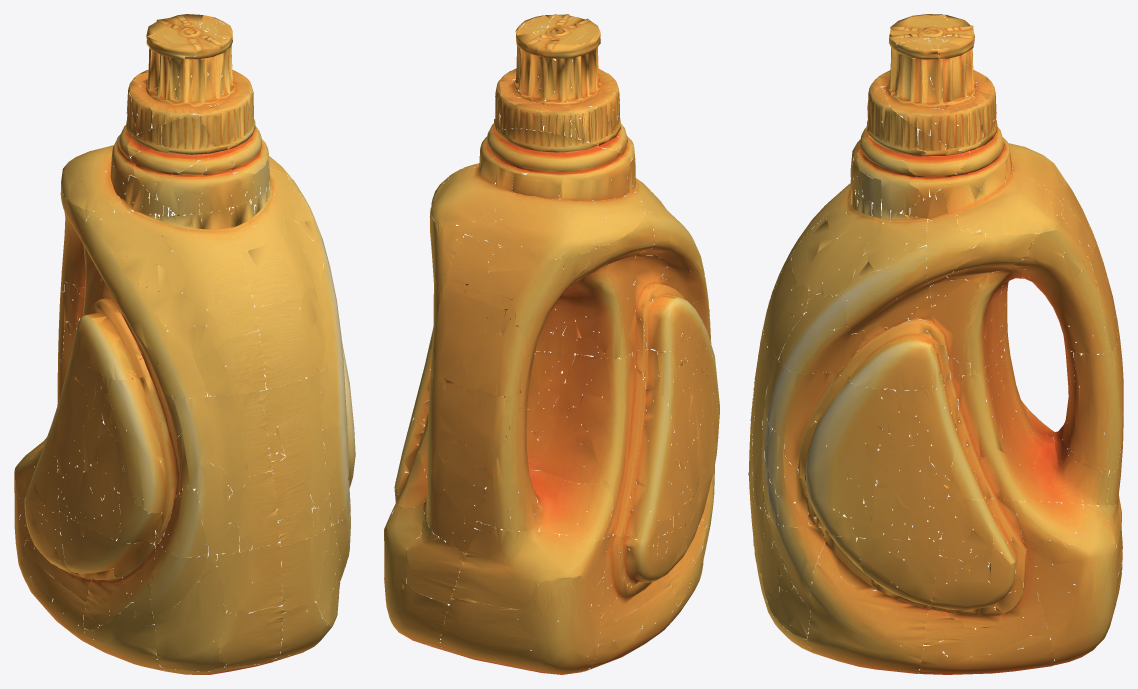
The model's file is detergent.glb.
3 renders of one model, left to right at view 1: azimuth 30°, elevation 25°; view 2: azimuth 150°, elevation 25°; view 3: azimuth 270°, elevation 25°, orthographic. The views are drawn at different scales.
Visible parts, largest first — view 1: tripo_node_8089f9ed-437d-43ed-96c5-bb406cfe3d32; view 2: tripo_node_8089f9ed-437d-43ed-96c5-bb406cfe3d32; view 3: tripo_node_8089f9ed-437d-43ed-96c5-bb406cfe3d32.
Boxes of the visible parts, x1,y1,x2,y2 form: tripo_node_8089f9ed-437d-43ed-96c5-bb406cfe3d32: [14, 14, 355, 674]; tripo_node_8089f9ed-437d-43ed-96c5-bb406cfe3d32: [384, 14, 719, 674]; tripo_node_8089f9ed-437d-43ed-96c5-bb406cfe3d32: [748, 14, 1123, 674].
Bounding box in the file's own units: 0.4525 × 0.9811 × 0.5582.
1 material, 1 textured.
